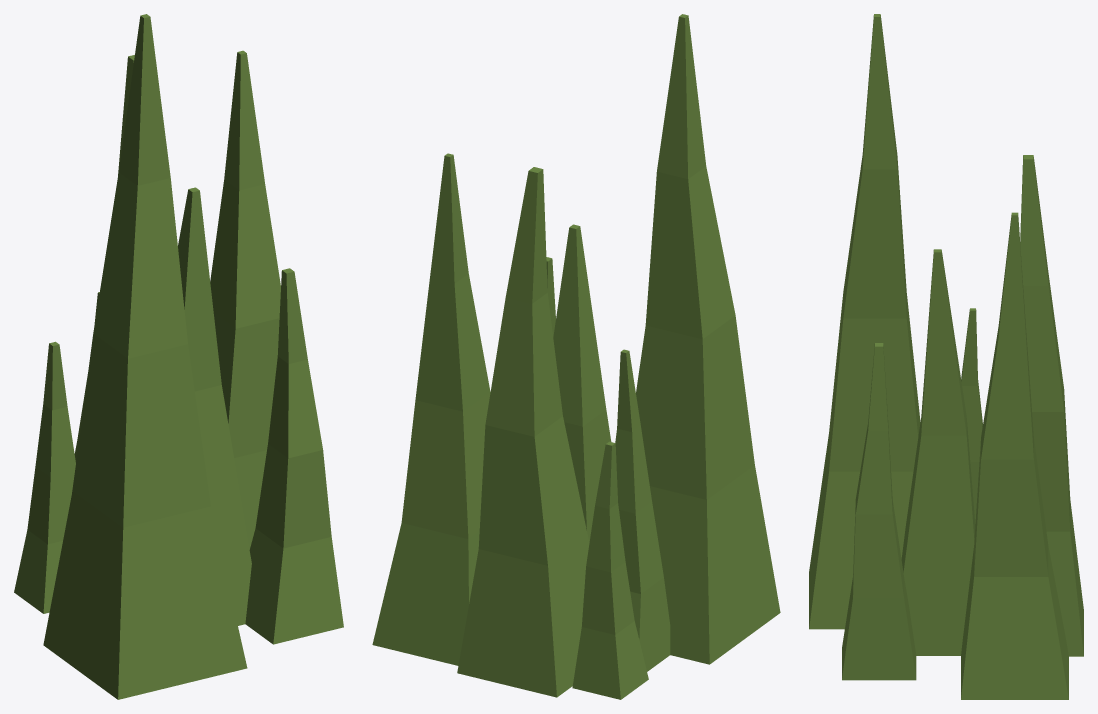
File: grass_01.fbx
The picture shows the model from 3 angles, left to right: view 1: azimuth 30°, elevation 25°; view 2: azimuth 150°, elevation 25°; view 3: azimuth 270°, elevation 25°; orthographic projection. The views are drawn at different scales.
Parts seen in each view (by area): view 1: Plane; view 2: Plane; view 3: Plane.
Boxes of the visible parts, x1=… form: Plane: x1=14, y1=14, x2=343, y2=699; Plane: x1=372, y1=14, x2=780, y2=699; Plane: x1=809, y1=14, x2=1083, y2=699.
Size of the model in its own units: 13.42 by 28.54 by 12.15.
